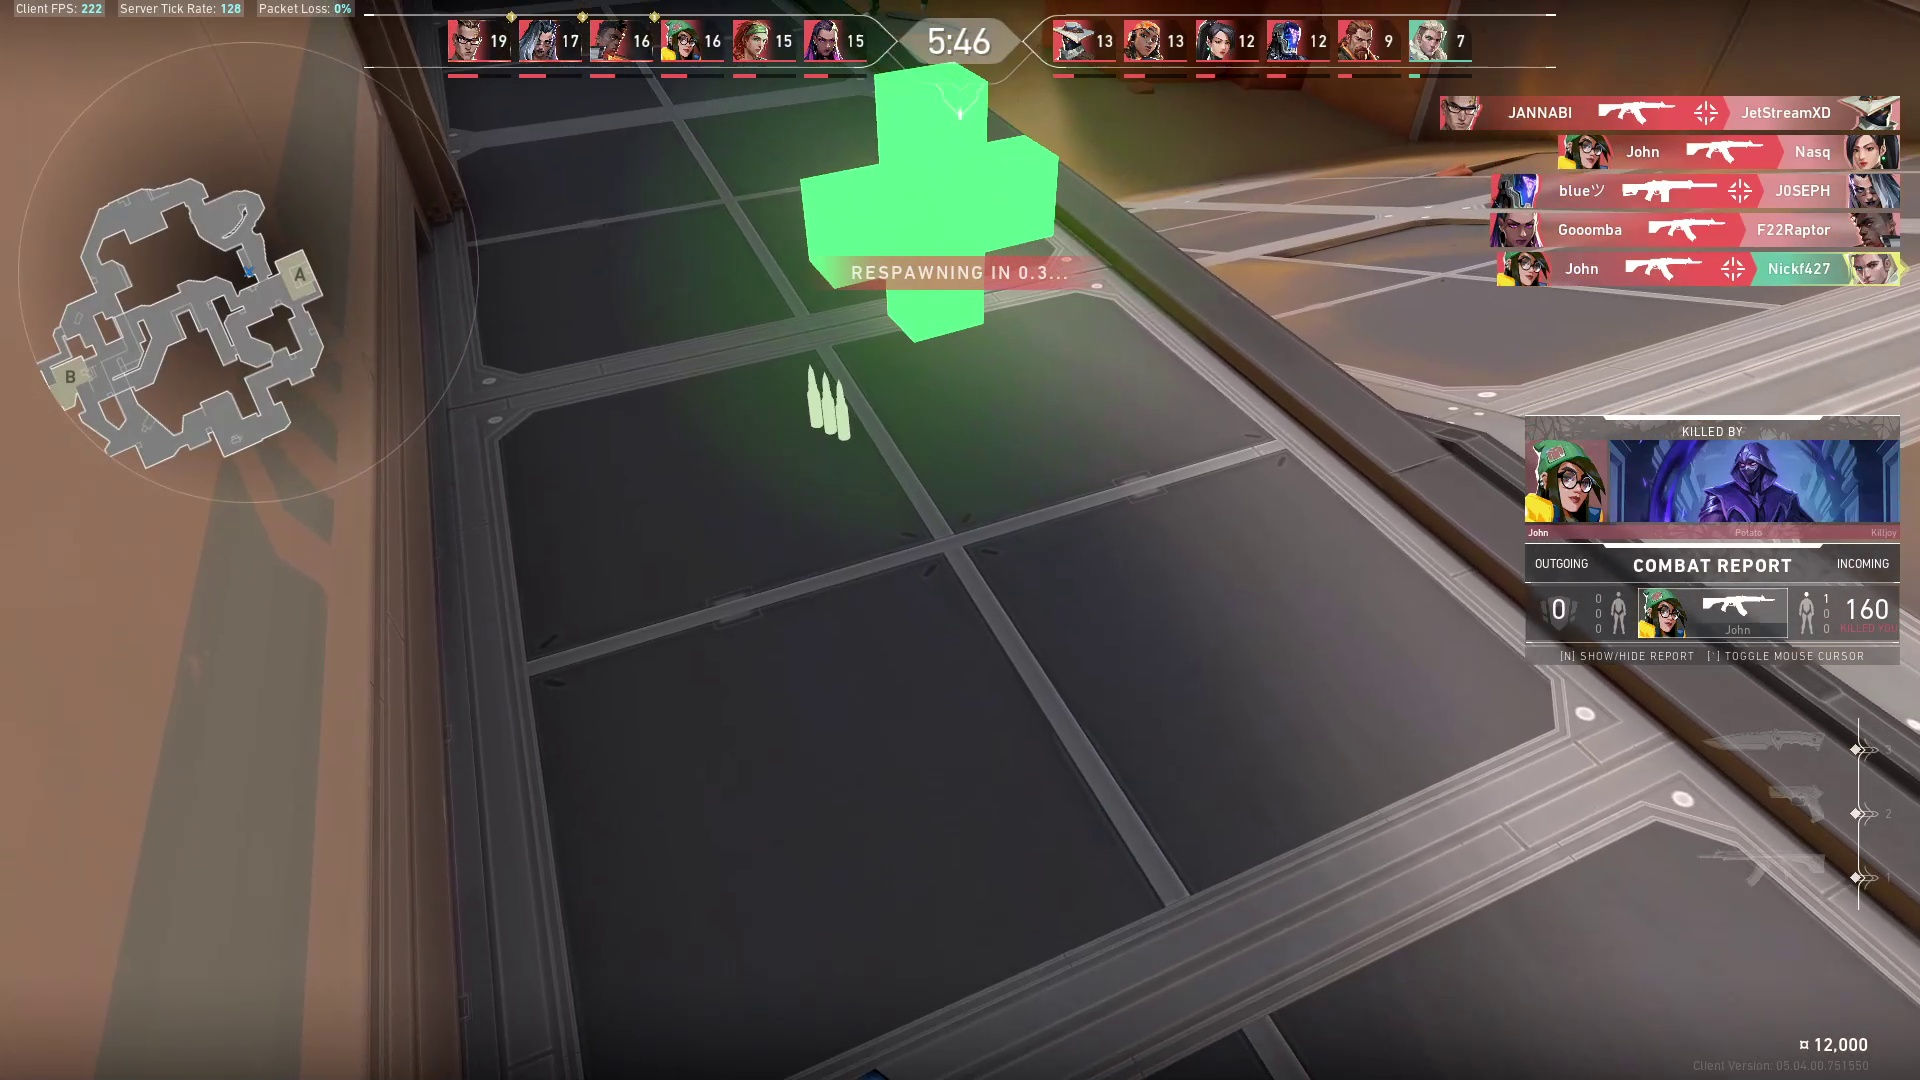enemy_gen: (860, 1, 934, 20)
